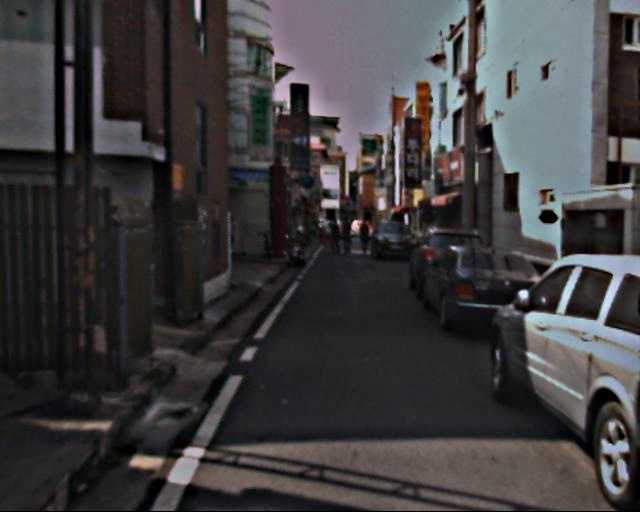person: (326, 216, 343, 258), (340, 217, 356, 257), (357, 218, 373, 257)
